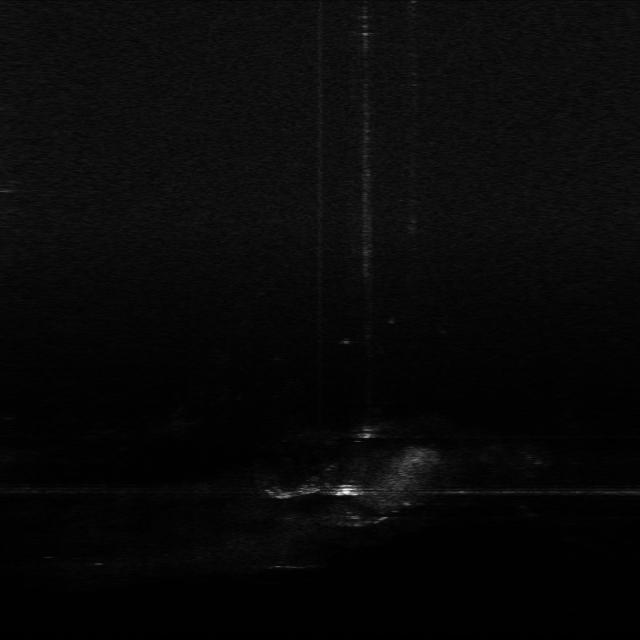rov: (333, 482, 366, 499)
